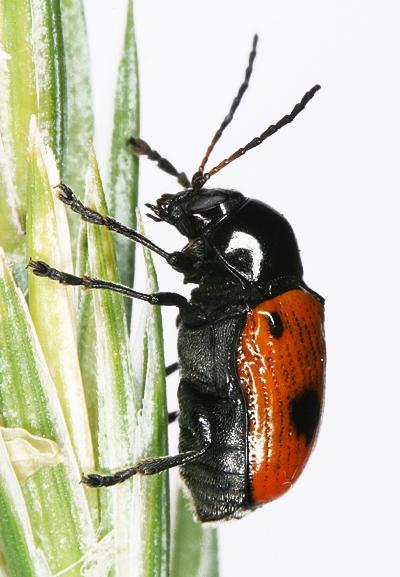Cryptocephalus_bipunctatus: (22, 27, 332, 526)
